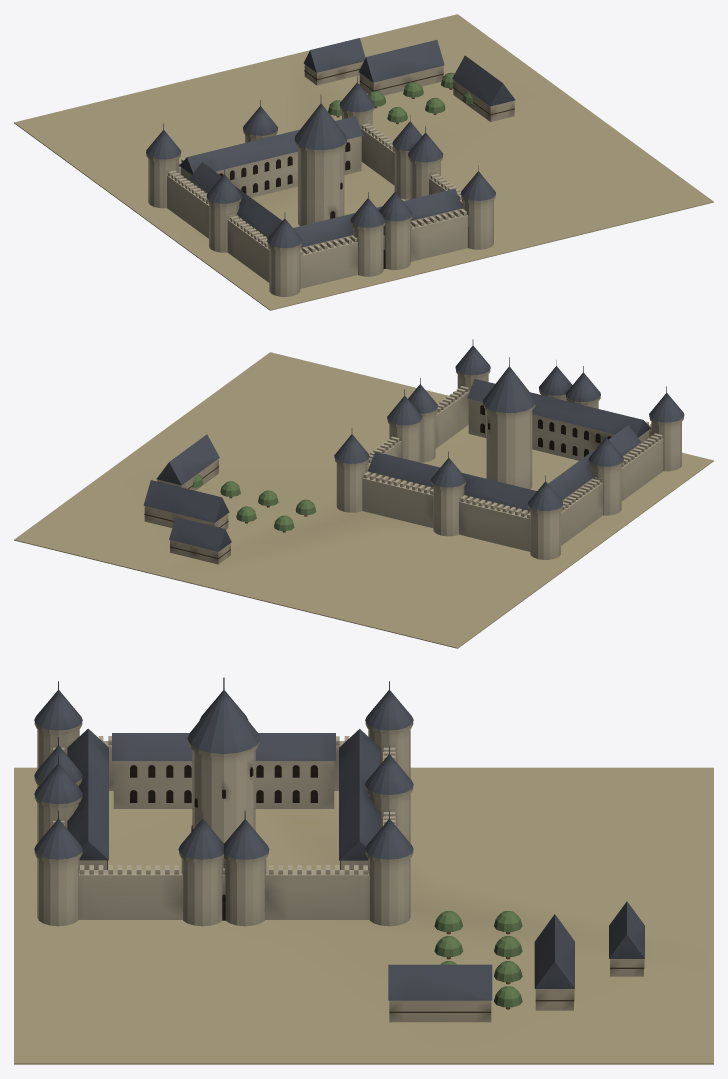
File: louvre-fortress.glb
3 views of the same model, one above another, from view 1: azimuth 30°, elevation 25°; view 2: azimuth 150°, elevation 25°; view 3: azimuth 270°, elevation 25° (orthographic). The views are drawn at different scales.
Parts seen in each view (by area): view 1: p0_walls, p1_towers, p2_keep; view 2: p0_walls, p1_towers, p2_keep; view 3: p0_walls, p1_towers, p2_keep.
Boxes of the visible parts, x1,y1,x2,y2 form: p0_walls: (14,14,713,310); p1_towers: (146,38,515,296); p2_keep: (294,94,347,226); p0_walls: (14,352,713,648); p1_towers: (143,339,684,564); p2_keep: (483,357,535,489); p0_walls: (14,728,713,1064); p1_towers: (34,681,644,1022); p2_keep: (187,677,260,843).
Size of the model in its own units: 165 by 45.93 by 165.
